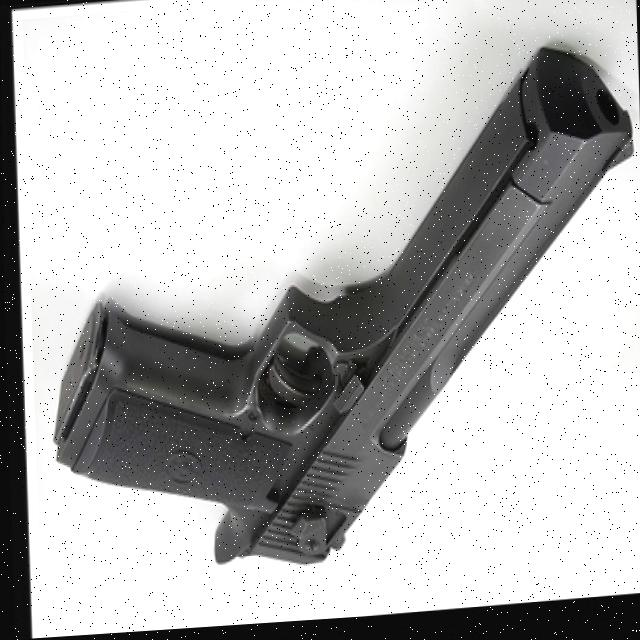pistol: (42, 51, 640, 590)
